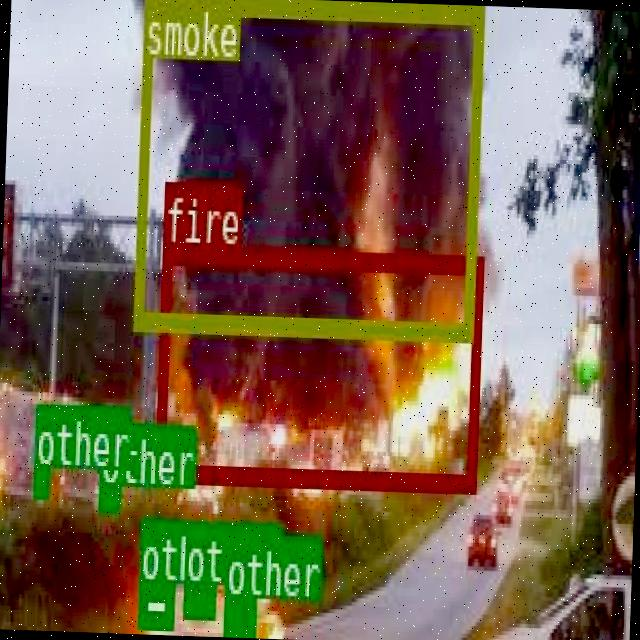fire: (154, 242, 481, 488)
smoke: (132, 0, 482, 335)
